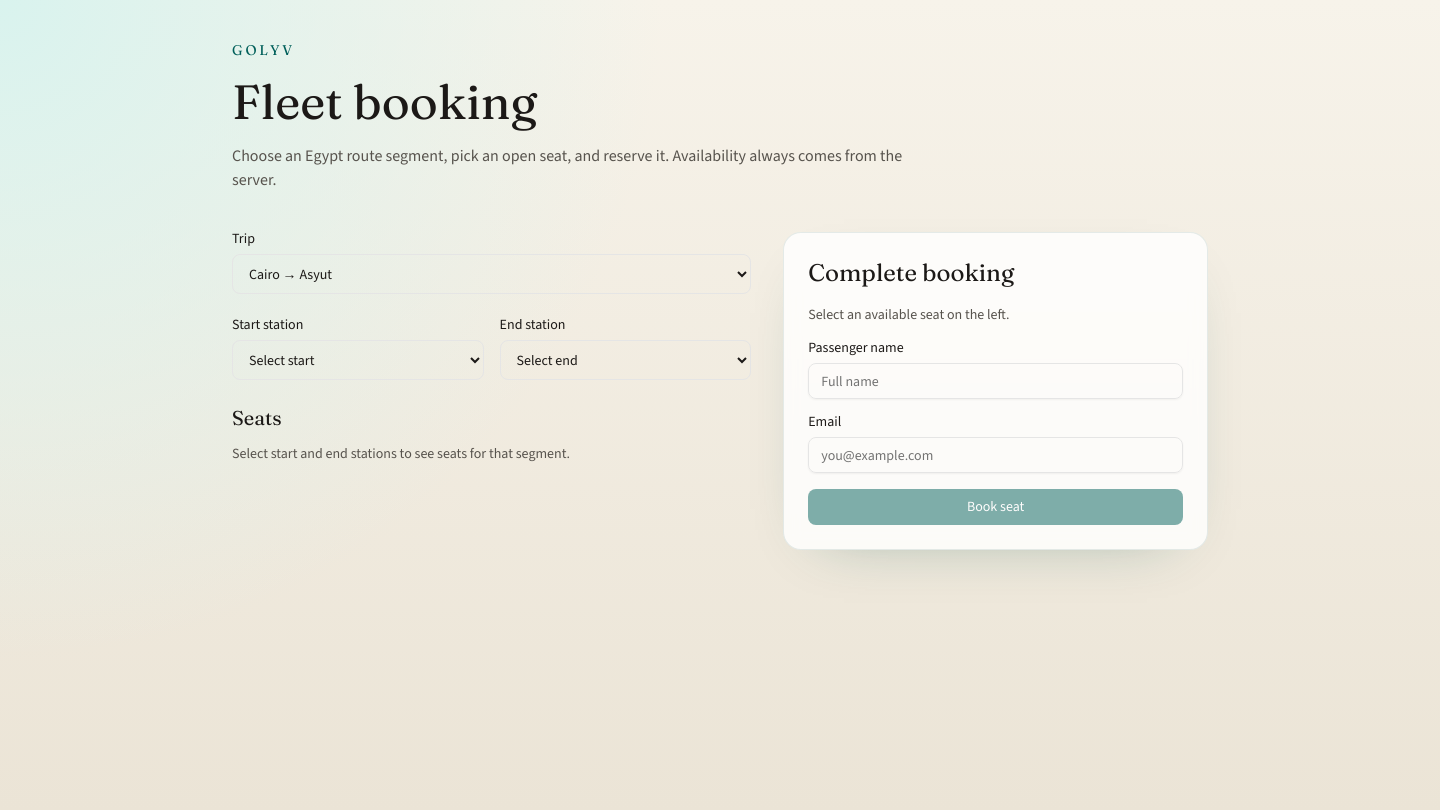
BookingWorkbench › loads seats and completes a booking
Expected: the dropdown labelled "Trip" is shown, [232,254,751,294]
Select "Cairo" in the dropdown labelled "Start station": (358, 360) [232,340,484,380]
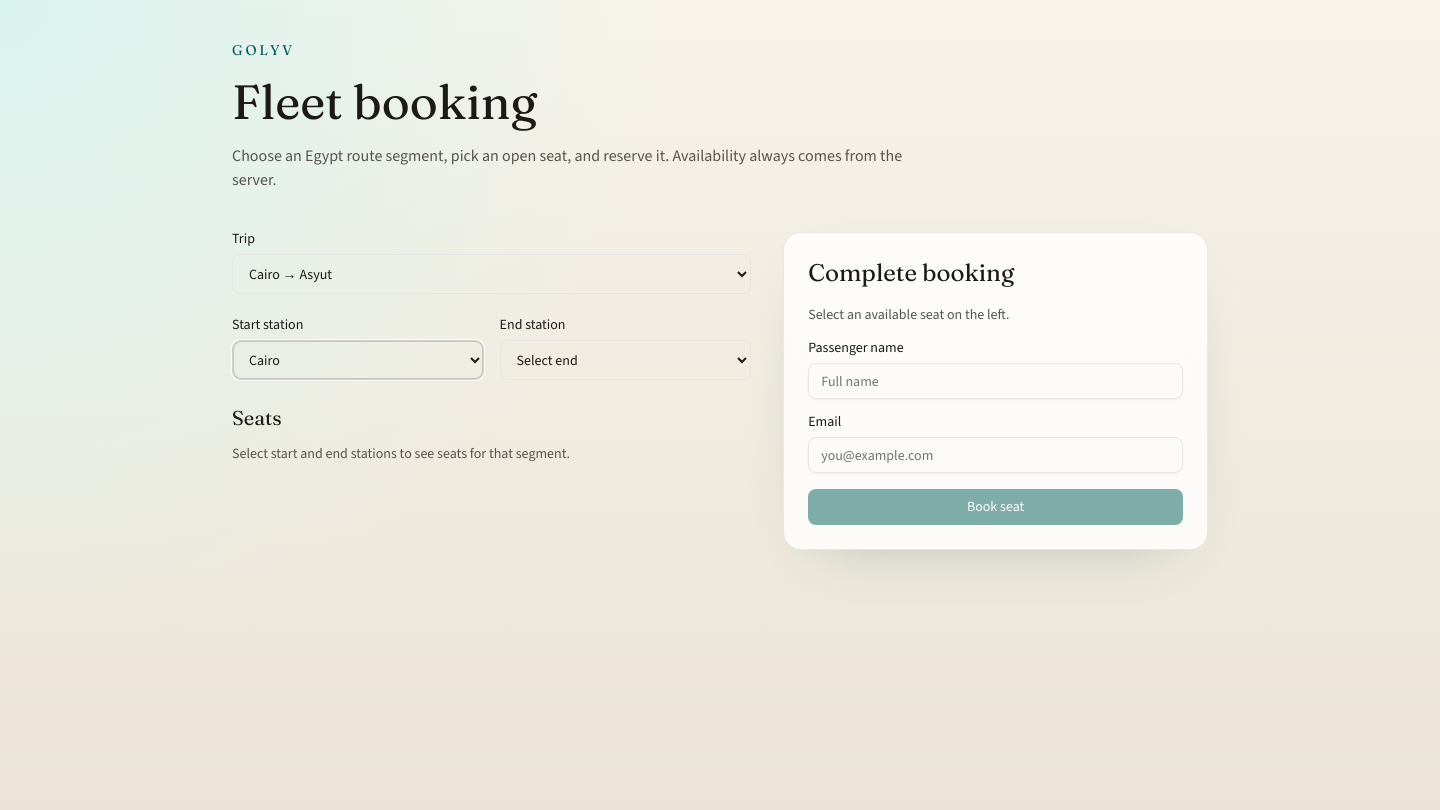
Select "Al Minya" in the dropdown labelled "End station": (625, 360) [500,340,751,380]
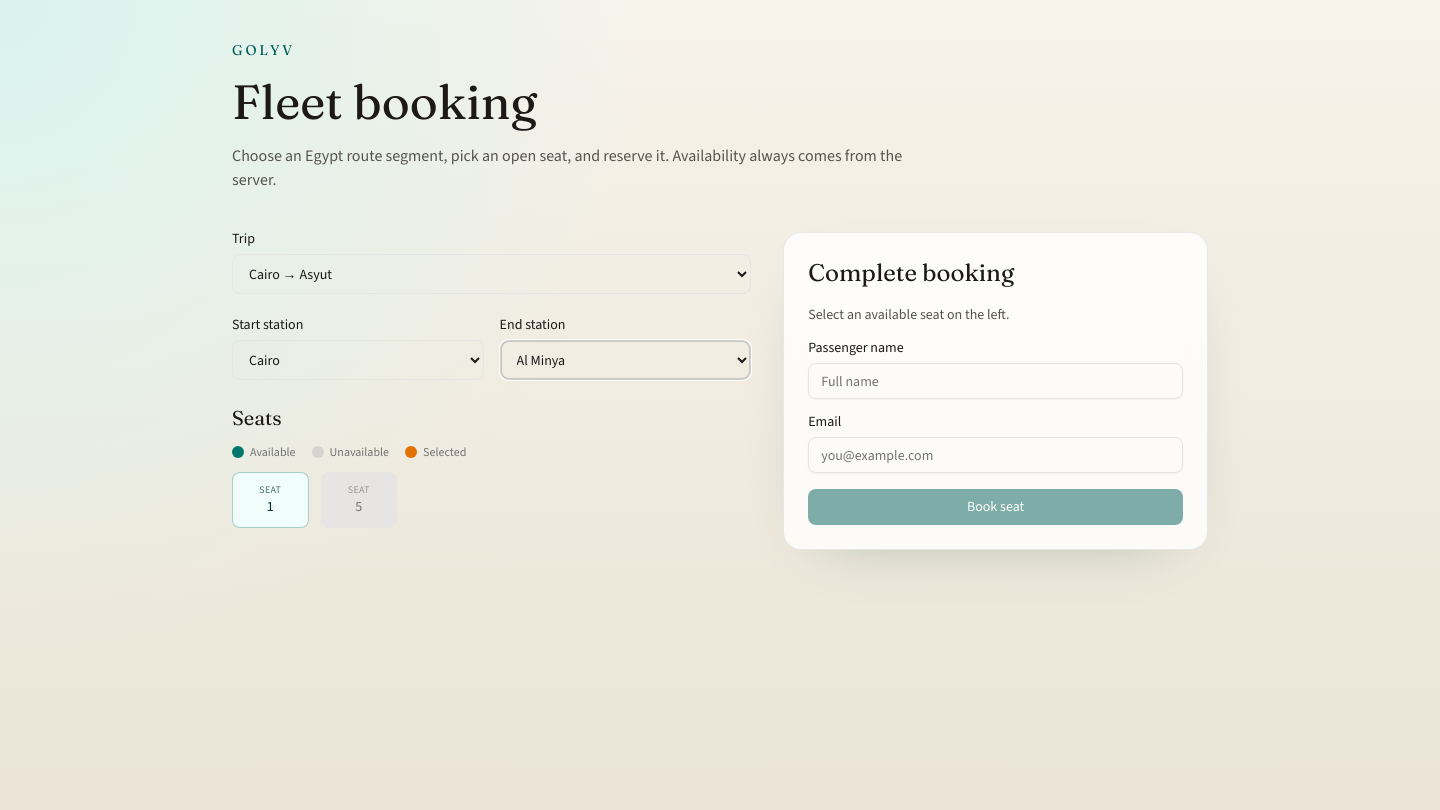
Now the option "Seat 1" is enabled
Now the option "Seat 5" is disabled, box [320,472,397,528]
Click the option "Seat 1": (270, 500) [232,472,308,528]
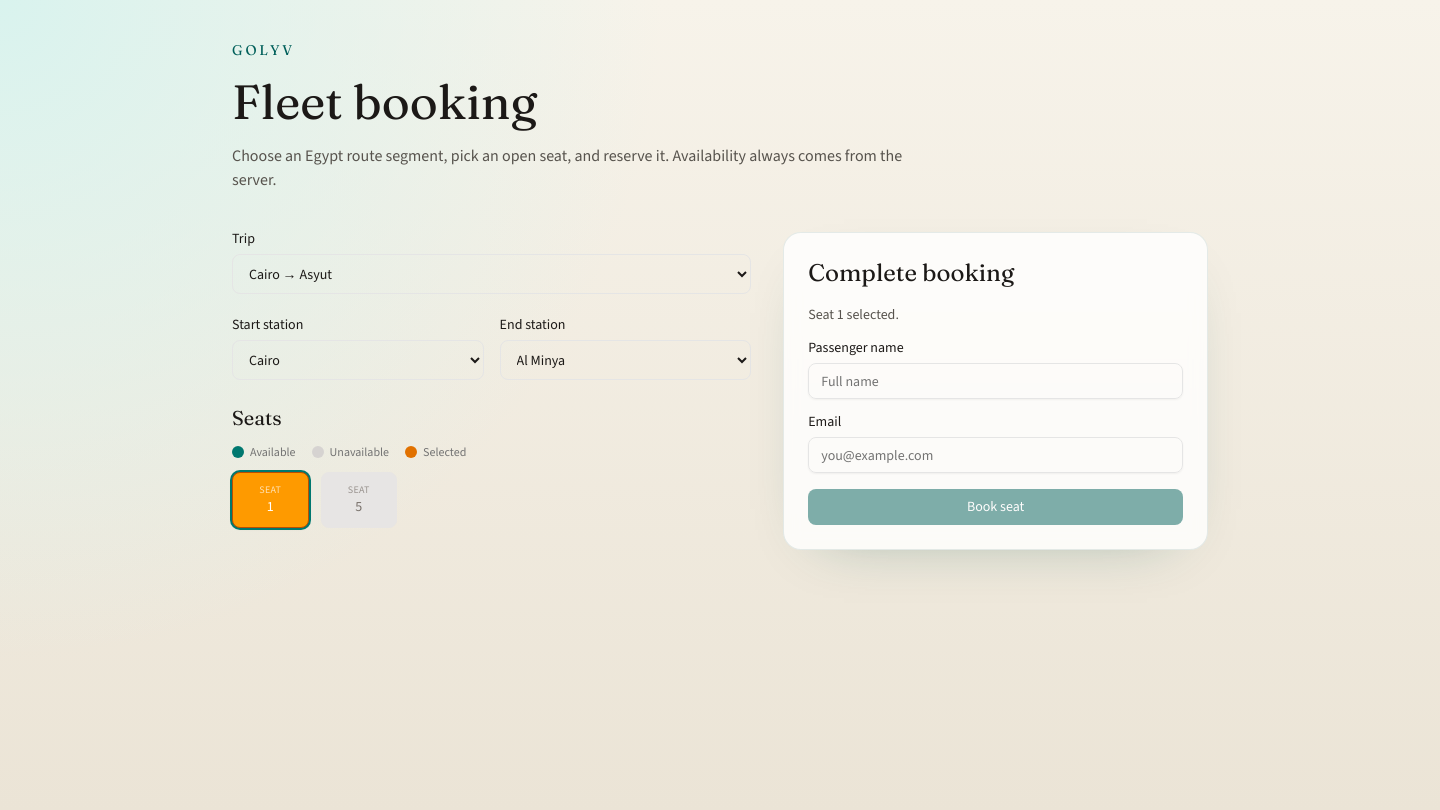
In the field labelled "Passenger name": (996, 381) [808,363,1183,399], type "Ada"
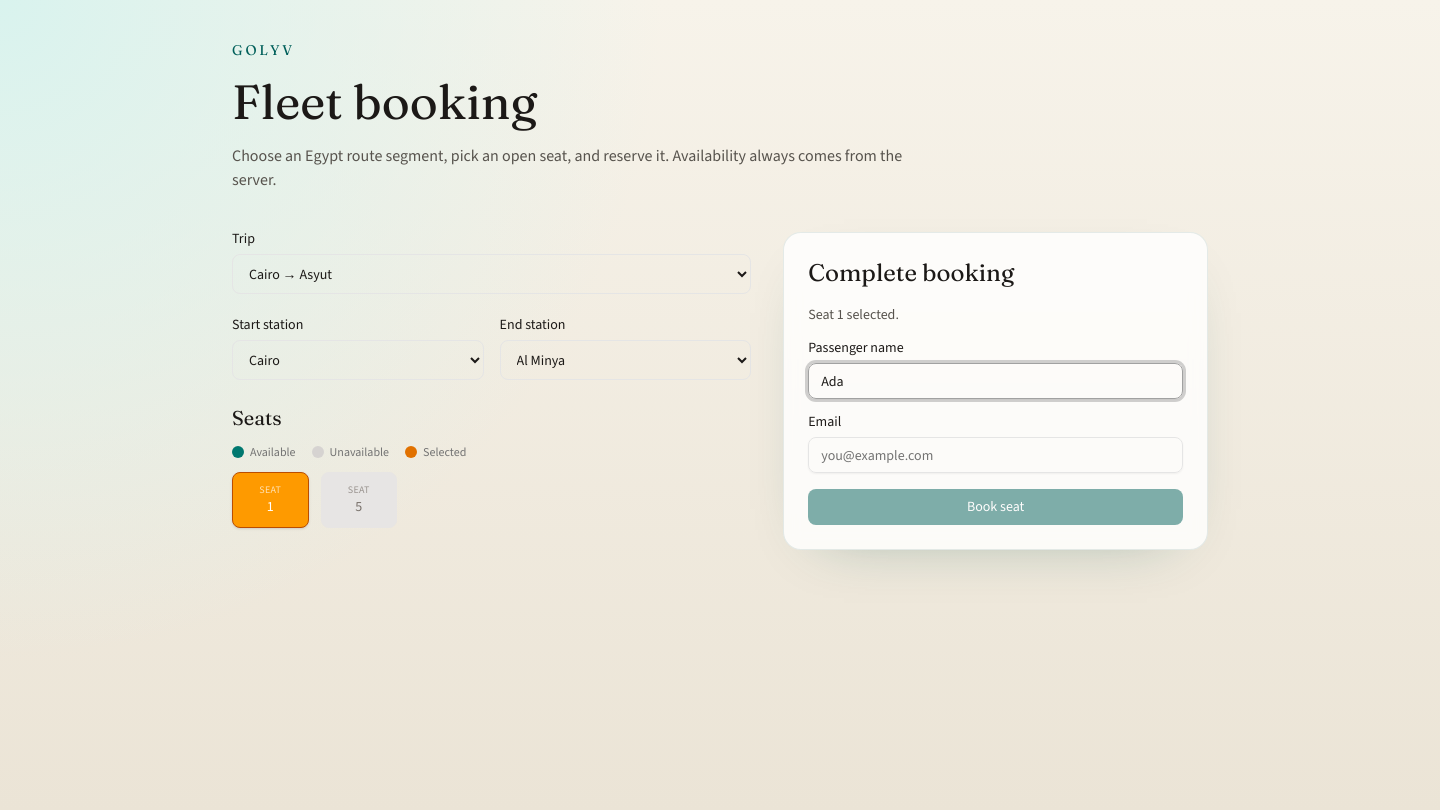
In the field labelled "Email": (996, 455) [808,437,1183,473], type "ada@example.com"
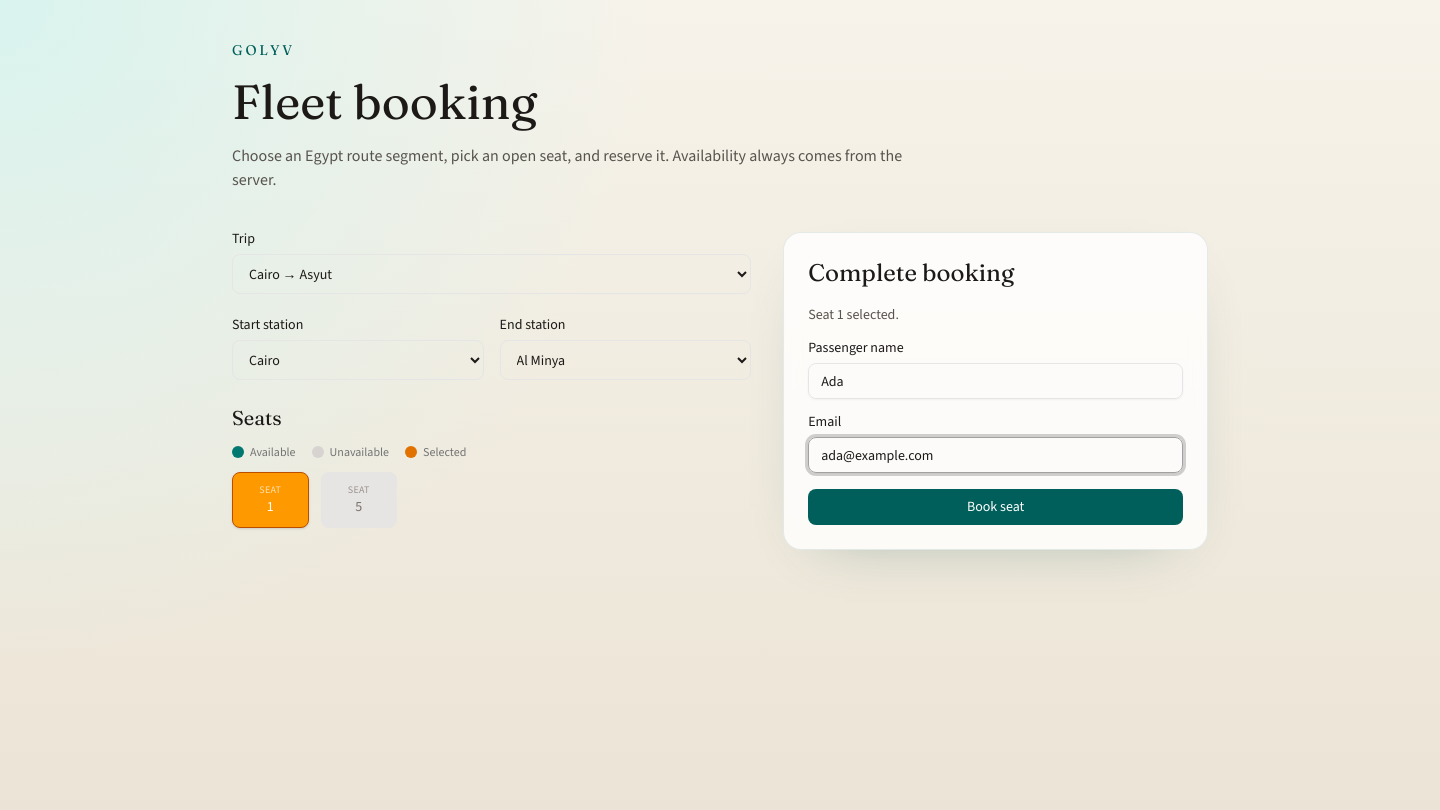
Click the button "Book seat": (996, 507) [808,489,1183,525]
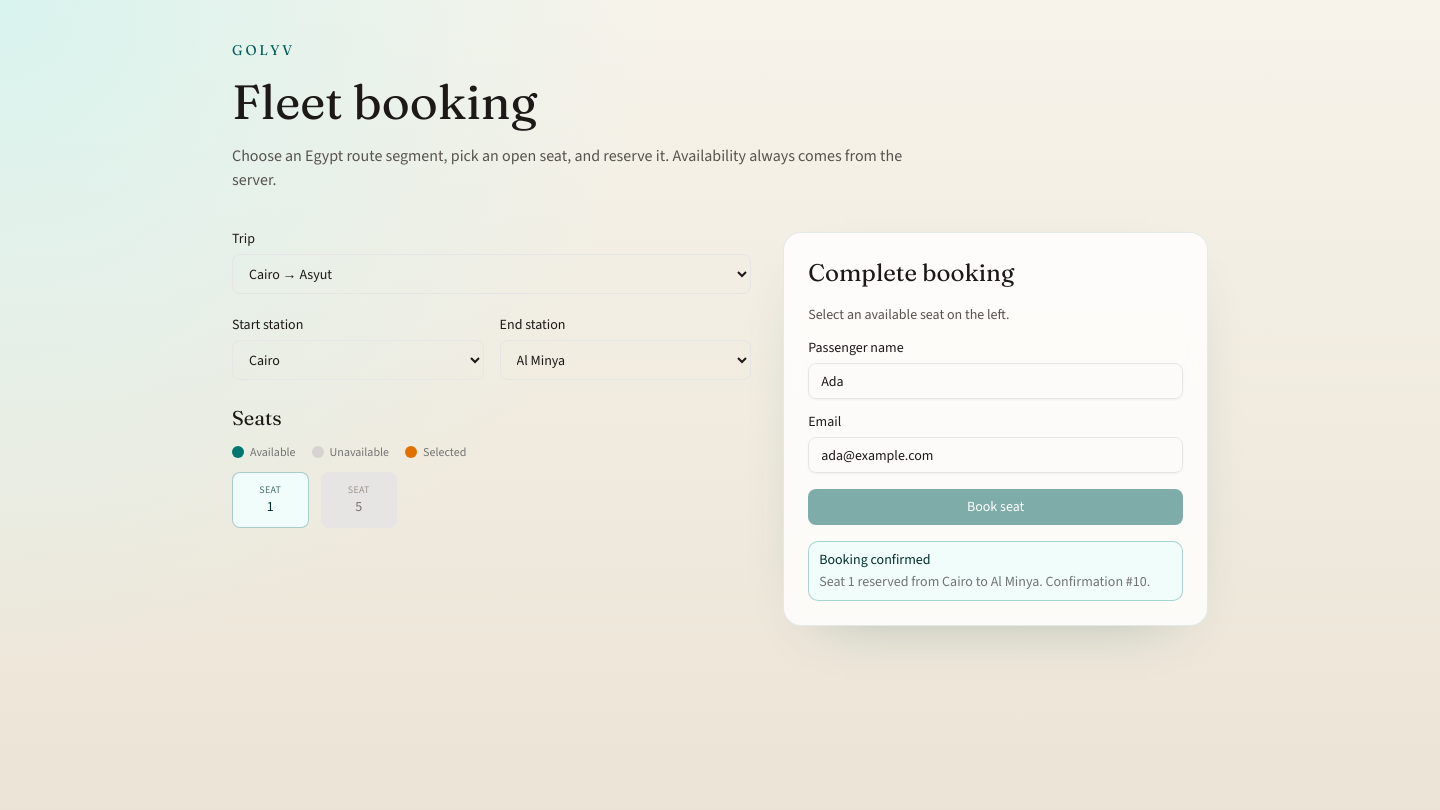
Now the text "Booking confirmed" is shown, box [819,550,930,569]
